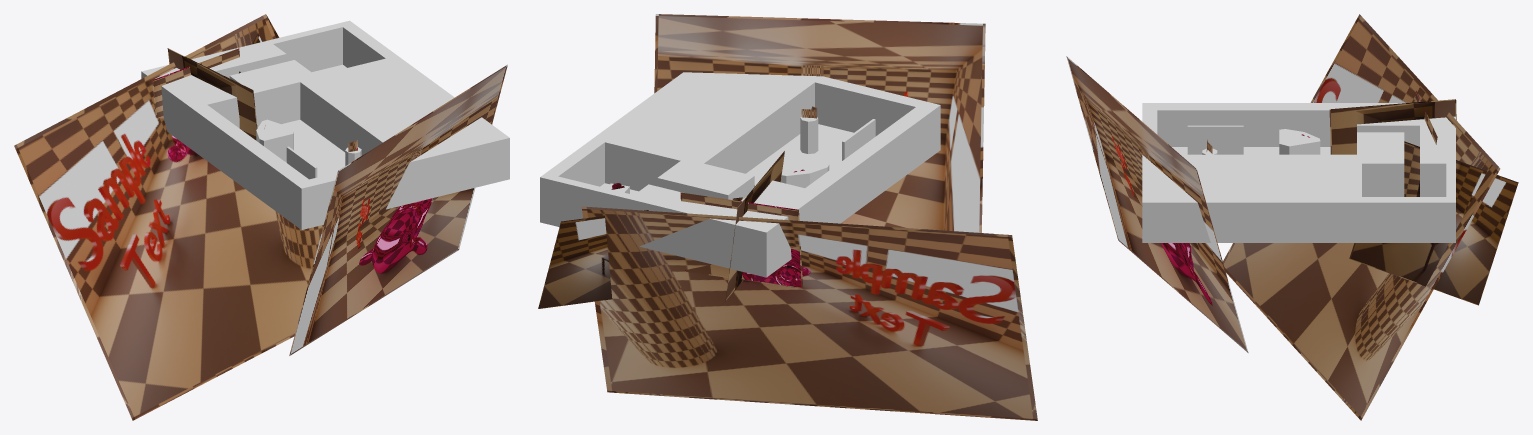
The picture shows the model from 3 angles, left to right: view 1: azimuth 30°, elevation 25°; view 2: azimuth 150°, elevation 25°; view 3: azimuth 270°, elevation 25°; orthographic projection. The views are drawn at different scales.
Parts seen in each view (by area): view 1: projection4, COL_room, background5, background2, background3; view 2: projection4, COL_room, background5, background1, background3, background2; view 3: COL_room, projection4, background5, background1, background2.
Part boxes in pixels (bbox=[...]): projection4: bbox=[14, 14, 357, 420]; COL_room: bbox=[141, 20, 509, 229]; background5: bbox=[264, 64, 507, 355]; background2: bbox=[167, 48, 257, 140]; background3: bbox=[152, 48, 239, 118]; projection4: bbox=[581, 106, 1037, 420]; COL_room: bbox=[540, 72, 940, 277]; background5: bbox=[654, 14, 985, 232]; background1: bbox=[538, 183, 742, 308]; background3: bbox=[680, 185, 803, 288]; background2: bbox=[725, 151, 784, 301]; COL_room: bbox=[1142, 103, 1455, 242]; projection4: bbox=[1206, 14, 1500, 420]; background5: bbox=[1066, 56, 1309, 352]; background1: bbox=[1349, 141, 1518, 305]; background2: bbox=[1329, 99, 1456, 154].
Size of the model in its own units: 88.34 by 56.88 by 86.08.
10 materials, 10 textured.
